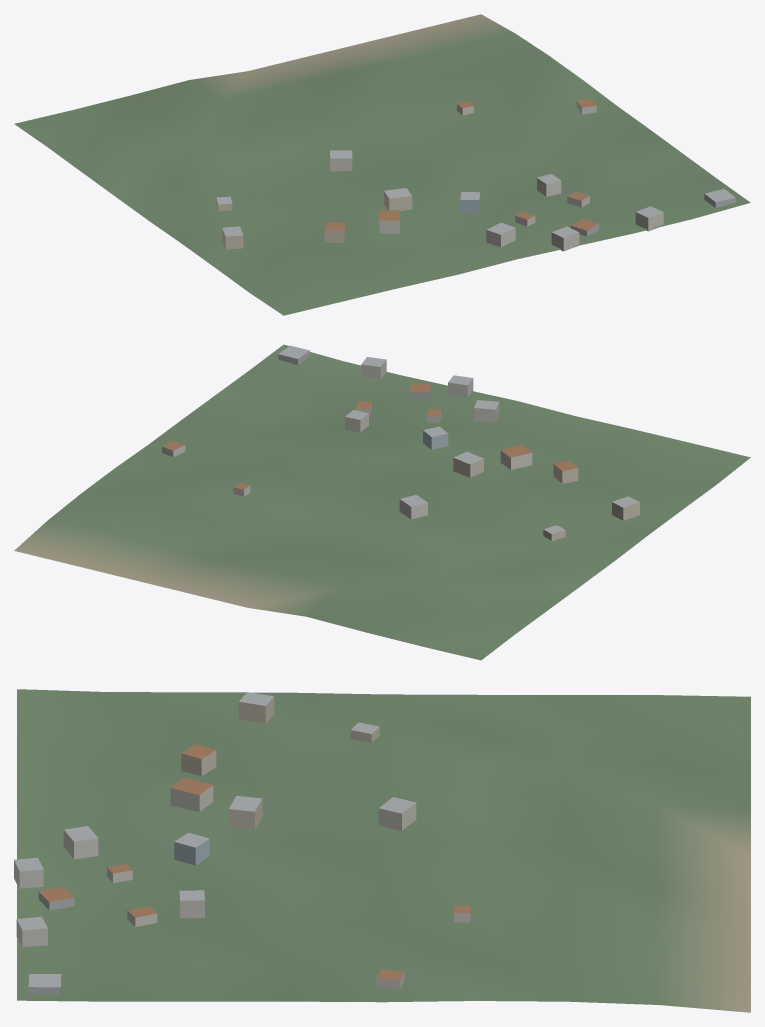
The picture shows the model from 3 angles, top to bottom: view 1: azimuth 30°, elevation 25°; view 2: azimuth 150°, elevation 25°; view 3: azimuth 270°, elevation 25°; orthographic projection. The views are drawn at different scales.
Parts seen in each view (by area): view 1: Lo; view 2: Lo; view 3: Lo.
Boxes of the visible parts, left/top/right/bottom form: Lo: left=14, top=14, right=750, bottom=315; Lo: left=14, top=344, right=750, bottom=660; Lo: left=14, top=689, right=750, bottom=1012.
Size of the model in its own units: 256 by 11.74 by 257.
